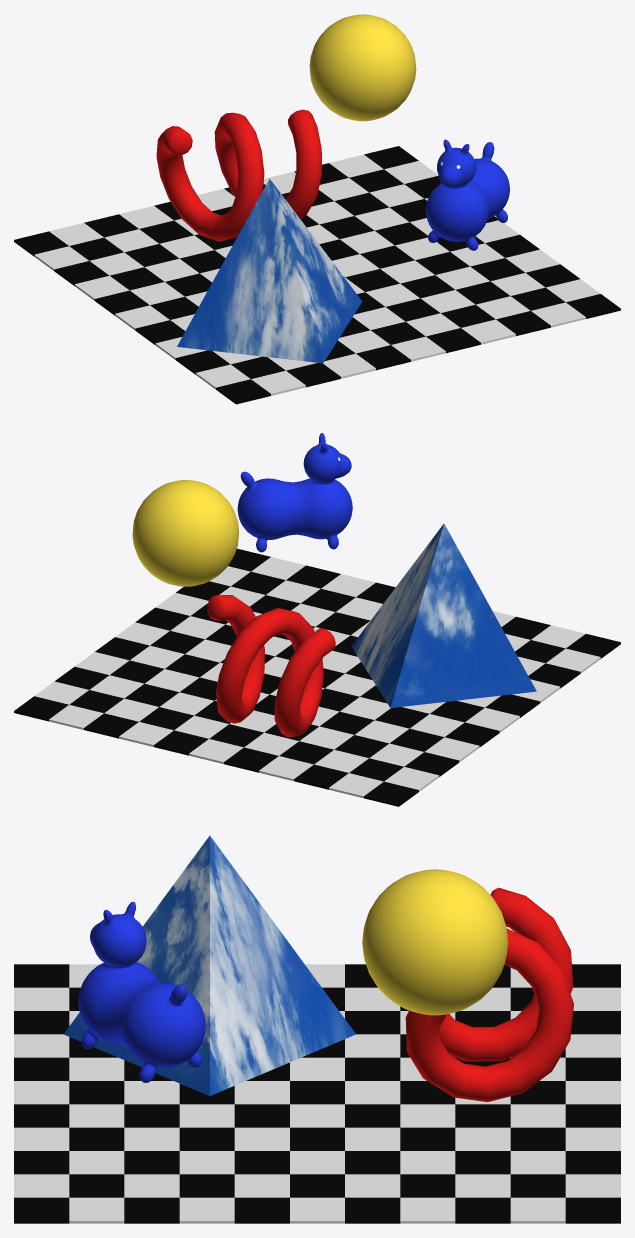
3 views of the same model, one above another, from view 1: azimuth 30°, elevation 25°; view 2: azimuth 150°, elevation 25°; view 3: azimuth 270°, elevation 25° (orthographic). The views are drawn at different scales.
Visible parts, largest first — view 1: Grid, Cone, Helix, Sphere, bouncy.001; view 2: Grid, Cone, Helix, Sphere, bouncy.001; view 3: Grid, Cone, Helix, Sphere, bouncy.001.
Part boxes in pixels (bbox=[...]): Grid: bbox=[14, 146, 620, 404]; Cone: bbox=[177, 178, 362, 363]; Helix: bbox=[156, 109, 321, 241]; Sphere: bbox=[309, 14, 416, 121]; bouncy.001: bbox=[426, 139, 509, 250]; Grid: bbox=[14, 548, 620, 806]; Cone: bbox=[351, 523, 536, 707]; Helix: bbox=[207, 595, 335, 736]; Sphere: bbox=[132, 480, 239, 586]; bouncy.001: bbox=[237, 433, 352, 552]; Grid: bbox=[14, 964, 620, 1223]; Cone: bbox=[63, 835, 355, 1095]; Helix: bbox=[405, 887, 573, 1102]; Sphere: bbox=[362, 869, 508, 1015]; bouncy.001: bbox=[78, 902, 205, 1082].
Size of the model in its own units: 10 by 5.06 by 10.
Materials: 7 (1 with a texture image).
